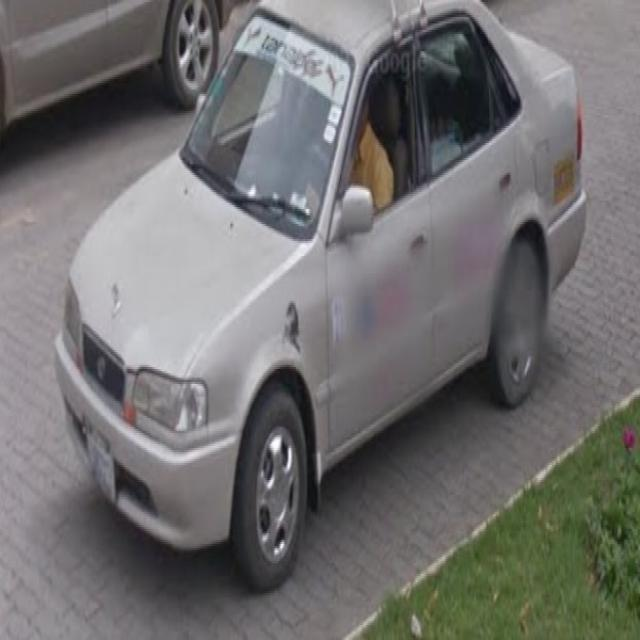truck: (61, 0, 590, 592)
